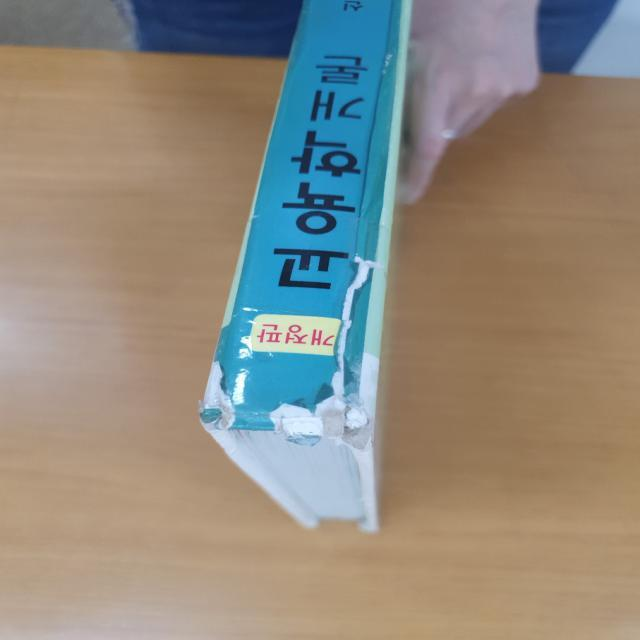Ripped: (269, 252, 380, 446), (195, 353, 242, 437)
Wornout: (242, 405, 269, 434), (378, 49, 396, 76)
